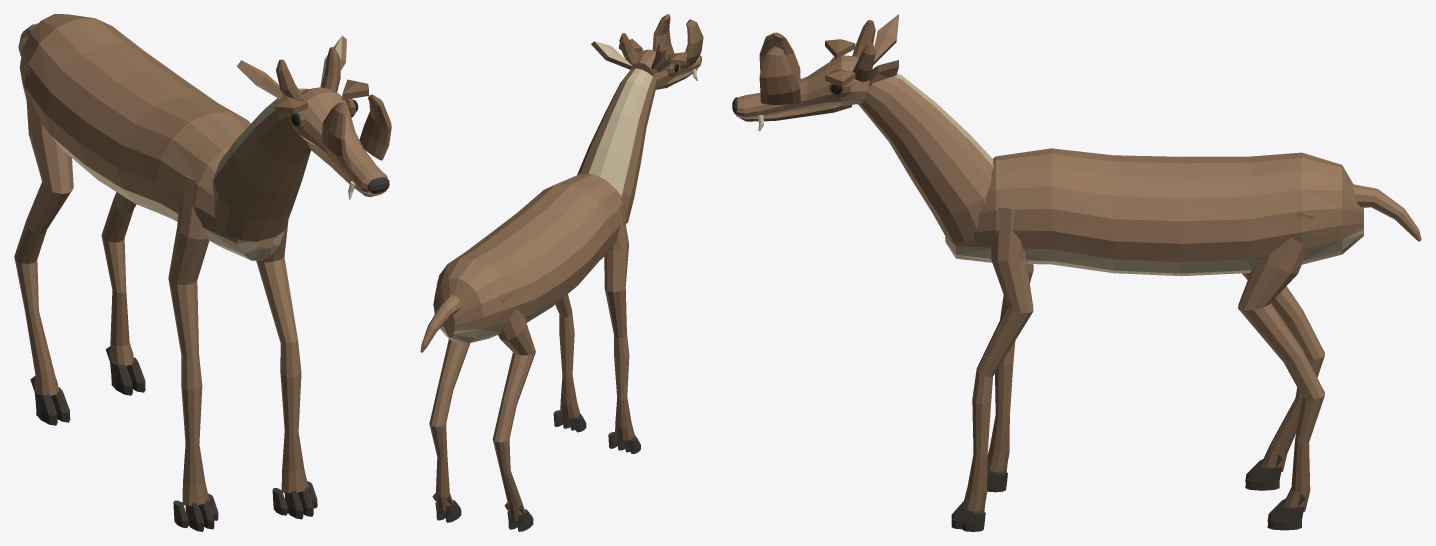
3 views of the same model, side by side, from view 1: azimuth 30°, elevation 25°; view 2: azimuth 150°, elevation 25°; view 3: azimuth 270°, elevation 25° (orthographic). The views are drawn at different scales.
Parts seen in each view (by area): view 1: Torso_ribcage, Neck_moderate, Forelimb_L, Hindlimb_L, Forelimb_R, Hindlimb_R, Skull_long_rostrum, Maxillary_plate_R, Maxillary_plate_L, Forefoot_four_digits_L, Forefoot_four_digits_R, Hindfoot_two_main_two_rudimentary_R (+5 smaller); view 2: Torso_ribcage, Neck_moderate, Hindlimb_L, Forelimb_L, Hindlimb_R, Forelimb_R, Skull_long_rostrum, Tail_short, Maxillary_plate_L, Maxillary_plate_R, Ear_R, Forefoot_four_digits_R (+4 smaller); view 3: Torso_ribcage, Neck_moderate, Hindlimb_R, Forelimb_R, Hindlimb_L, Skull_long_rostrum, Forelimb_L, Maxillary_plate_R, Tail_short, Hindfoot_two_main_two_rudimentary_L, Hindfoot_two_main_two_rudimentary_R.
Part boxes in pixels (x1,y1,x2,y2): Torso_ribcage: [19, 14, 285, 260]; Neck_moderate: [212, 88, 311, 241]; Forelimb_L: [168, 175, 209, 505]; Hindlimb_L: [14, 66, 73, 395]; Forelimb_R: [256, 219, 308, 493]; Hindlimb_R: [101, 192, 136, 365]; Skull_long_rostrum: [292, 87, 389, 195]; Maxillary_plate_R: [359, 94, 391, 160]; Maxillary_plate_L: [321, 102, 351, 168]; Forefoot_four_digits_L: [173, 493, 218, 531]; Forefoot_four_digits_R: [272, 481, 317, 519]; Hindfoot_two_main_two_rudimentary_R: [105, 343, 145, 395]; Torso_ribcage: [433, 173, 626, 343]; Neck_moderate: [577, 68, 656, 223]; Hindlimb_L: [492, 292, 535, 520]; Forelimb_L: [604, 204, 634, 440]; Hindlimb_R: [429, 275, 470, 511]; Forelimb_R: [555, 294, 579, 418]; Skull_long_rostrum: [630, 49, 701, 88]; Tail_short: [420, 295, 460, 352]; Maxillary_plate_L: [680, 19, 703, 69]; Maxillary_plate_R: [652, 14, 674, 55]; Ear_R: [591, 41, 633, 69]; Forefoot_four_digits_R: [553, 410, 586, 432]; Torso_ribcage: [945, 148, 1363, 276]; Neck_moderate: [858, 66, 993, 241]; Hindlimb_R: [1238, 212, 1324, 512]; Forelimb_R: [963, 207, 1033, 511]; Hindlimb_L: [1242, 273, 1324, 472]; Skull_long_rostrum: [736, 55, 869, 118]; Forelimb_L: [987, 264, 1033, 472]; Maxillary_plate_R: [759, 46, 800, 104]; Tail_short: [1353, 184, 1421, 241]; Hindfoot_two_main_two_rudimentary_L: [1245, 454, 1282, 490]; Hindfoot_two_main_two_rudimentary_R: [1267, 494, 1305, 530].
Size of the model in its own units: 0.219 by 0.8438 by 1.12.
